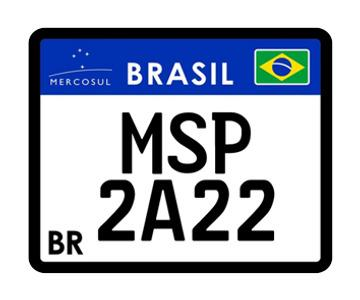Placa_mercosul_carro: (36, 39, 322, 262)
